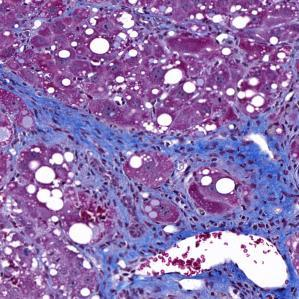fibrosis: (95, 211, 243, 297), (180, 123, 296, 201), (39, 101, 155, 172)
